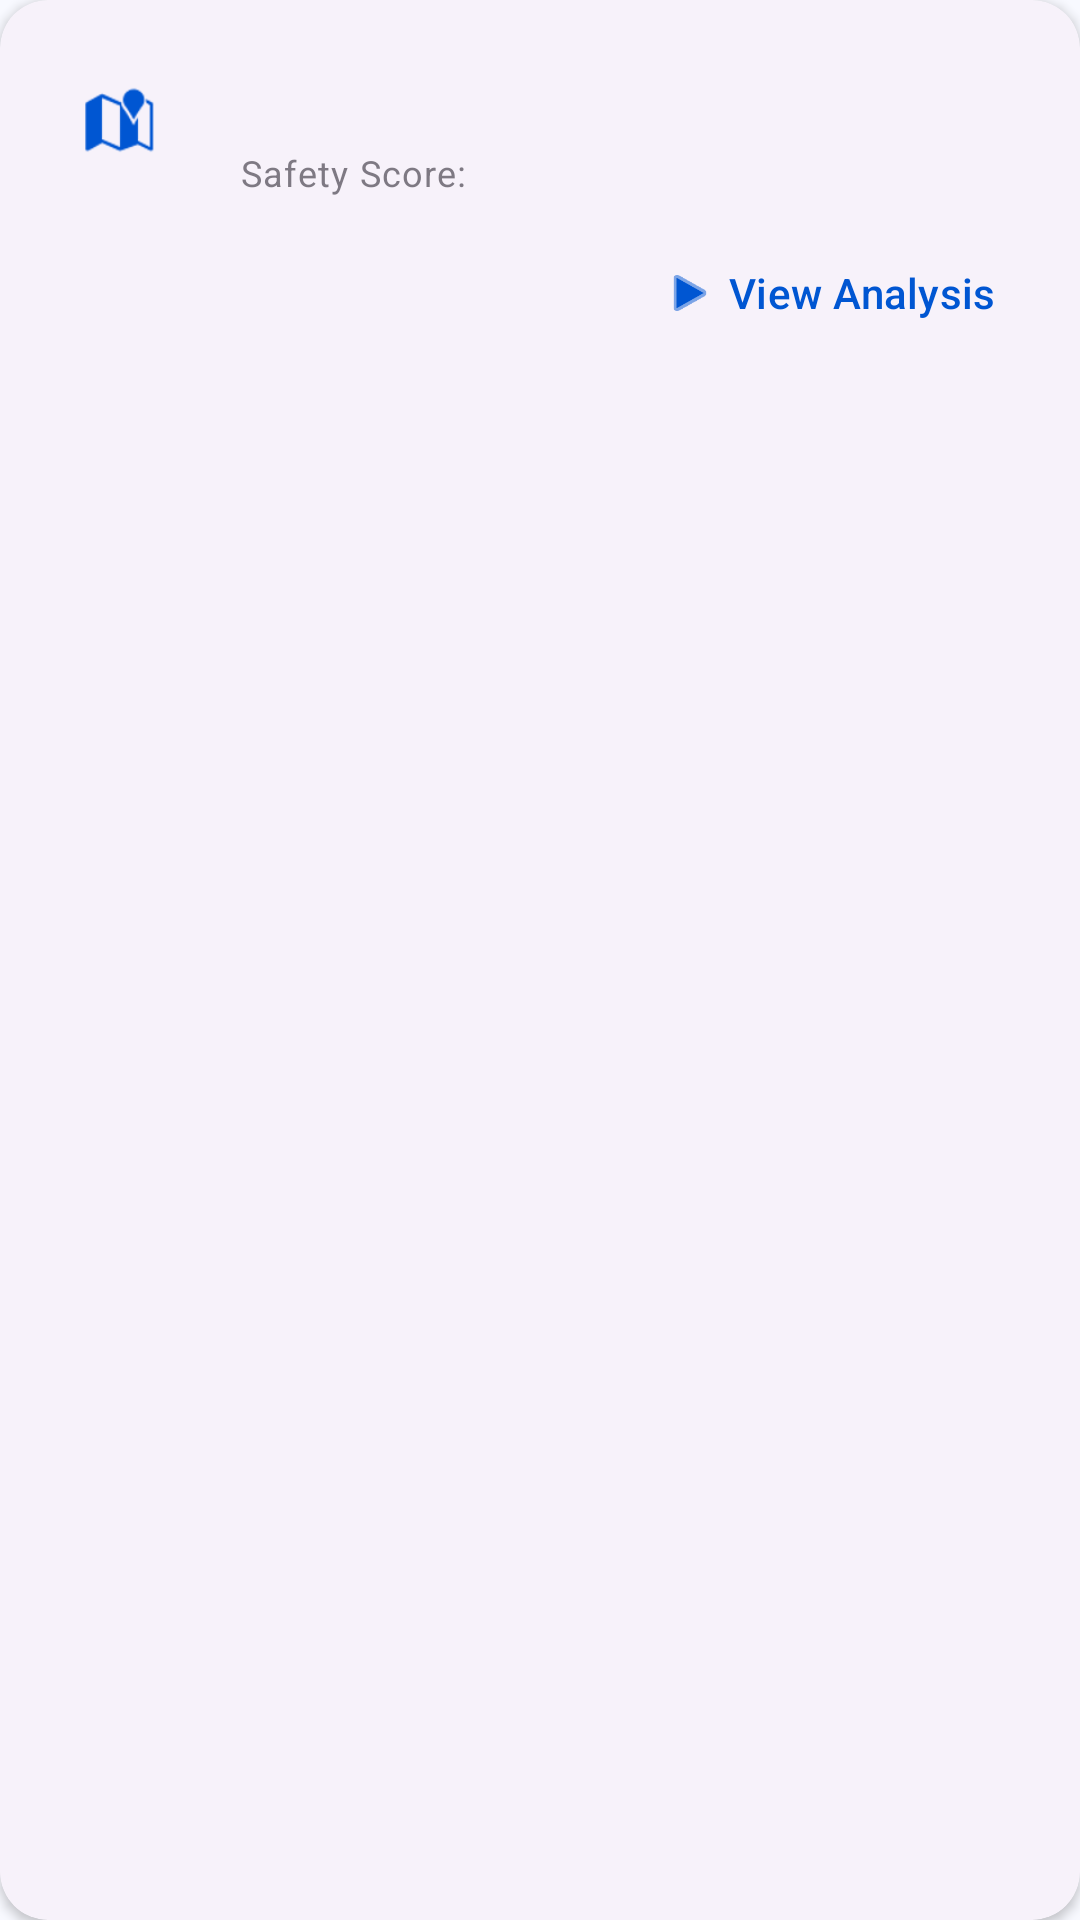

Named icons in this screenshot (1080 × 1920) and their centers, (x,y):
map: (119,120)
